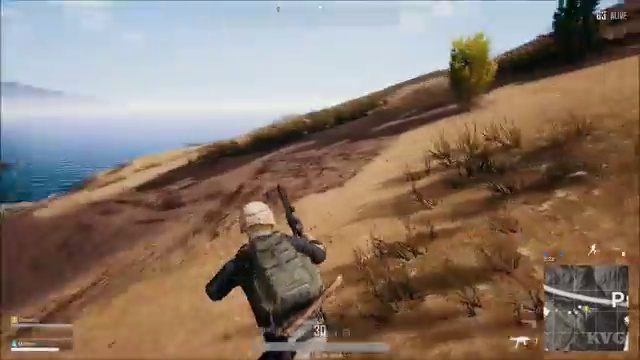Player: (178, 184, 366, 324)
